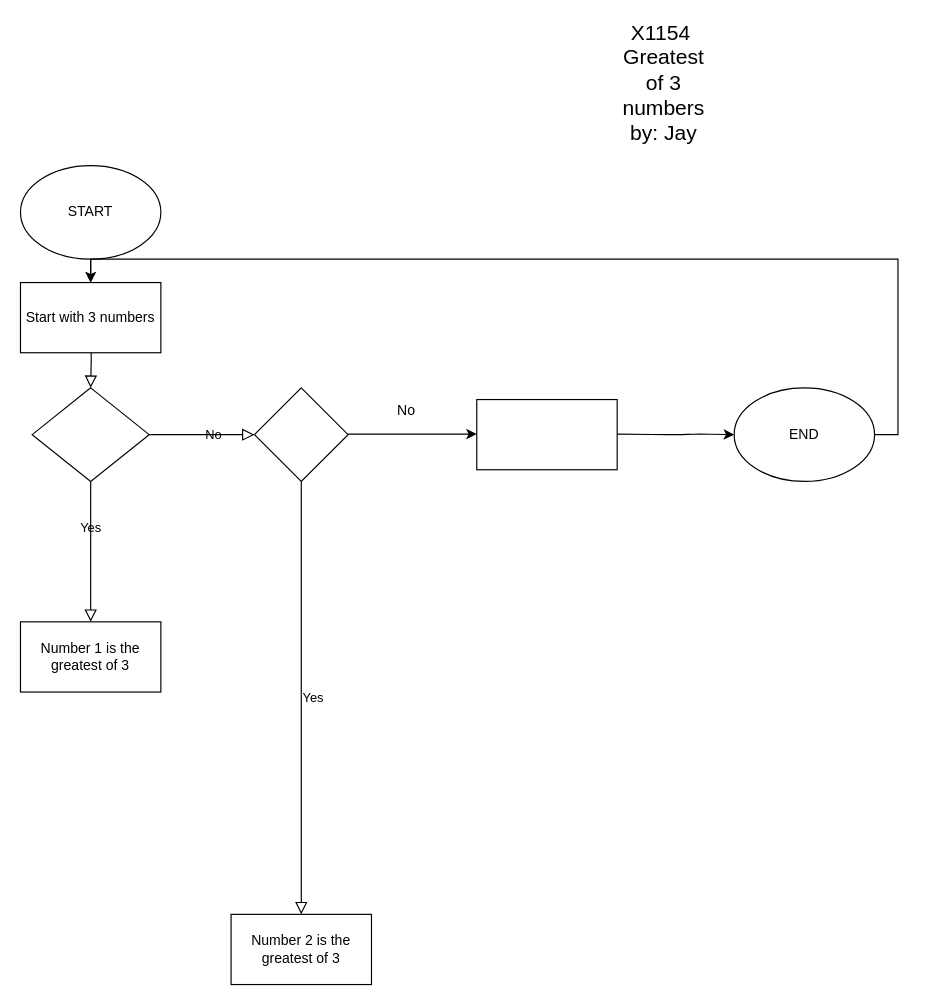
Image size: 928x1005. Some labels were removed from this diagram. Here are the shapes that lost their labels. From the top down, the centre of each, then its label:
At pixel 90 434: "Is num1 greatest of 3?".
At pixel 300 434: "Is num2 greatest of 3?".
At pixel 546 434: "Number 3 is the greatest of 3".
